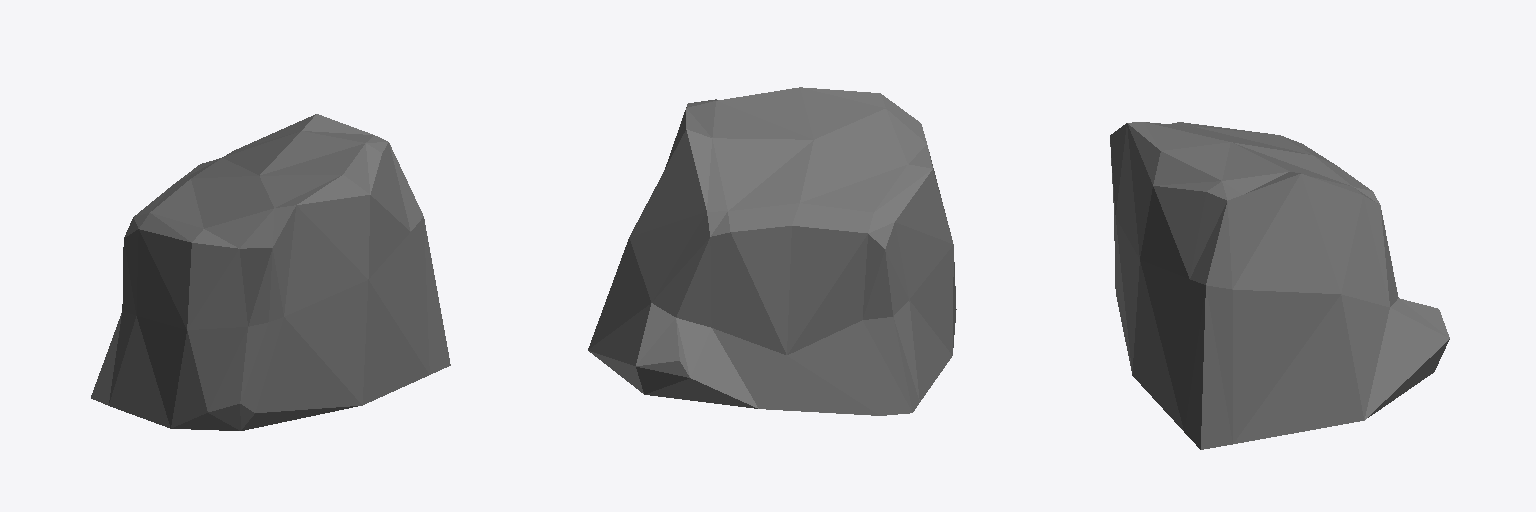
Rendered from rock2.obj.
The picture shows the model from 3 angles: view 1: azimuth 30°, elevation 25°; view 2: azimuth 150°, elevation 25°; view 3: azimuth 270°, elevation 25°; orthographic projection.
Parts seen in each view (by area): view 1: Rock2:pCube2; view 2: Rock2:pCube2; view 3: Rock2:pCube2.
Boxes of the visible parts, <box> form: Rock2:pCube2: <box>91,114,450,430</box>; Rock2:pCube2: <box>588,87,956,415</box>; Rock2:pCube2: <box>1110,122,1449,449</box>.
Bounding box in the file's own units: 41.05 × 29.92 × 38.96.